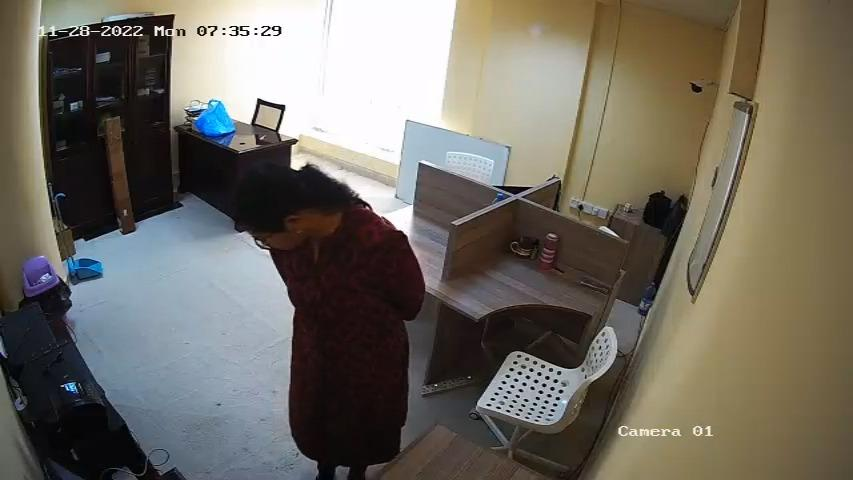no_apron: (292, 261, 405, 441)
